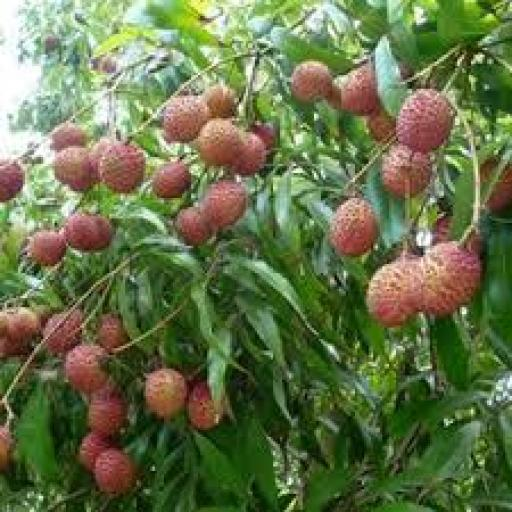lychee: (419, 242, 482, 316), (396, 89, 452, 152), (367, 258, 418, 327), (330, 198, 377, 257), (383, 144, 432, 197), (98, 144, 145, 193), (196, 119, 243, 166), (64, 344, 109, 393), (203, 180, 248, 229), (164, 96, 209, 143), (144, 369, 186, 418), (342, 62, 380, 116), (87, 385, 127, 436), (53, 146, 97, 191), (94, 449, 136, 496), (64, 212, 113, 252), (44, 310, 84, 354), (187, 383, 223, 430), (292, 62, 332, 102), (481, 160, 511, 211), (233, 132, 266, 177), (78, 433, 113, 473), (176, 208, 213, 245), (28, 230, 65, 266), (153, 162, 191, 197), (98, 315, 129, 352), (89, 137, 118, 175), (7, 308, 40, 341), (203, 85, 236, 118), (0, 160, 25, 202), (51, 123, 86, 152), (367, 110, 395, 143), (251, 123, 277, 152), (0, 337, 31, 357), (433, 214, 452, 245), (0, 426, 13, 471), (326, 82, 341, 111)
